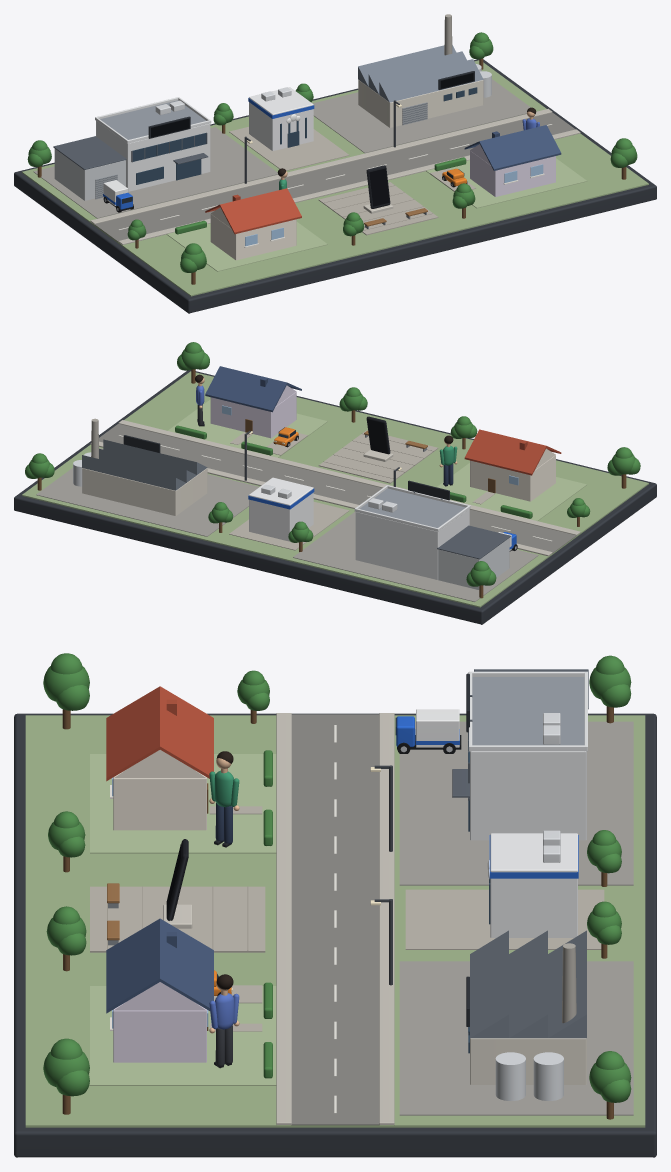
File: ebiz-town.glb
The picture shows the model from 3 angles, top to bottom: view 1: azimuth 30°, elevation 25°; view 2: azimuth 150°, elevation 25°; view 3: azimuth 270°, elevation 25°; orthographic projection. The views are drawn at different scales.
Parts seen in each view (by area): view 1: Static, Part_CompA, Part_CompB, Part_HouseA, Part_HouseB, Part_Platform, Part_Truck, Scr_Phone, Part_Phone; view 2: Static, Part_CompA, Part_CompB, Part_HouseB, Part_HouseA, Part_Platform, Part_Phone; view 3: Static, Part_CompA, Part_CompB, Part_HouseA, Part_HouseB, Part_Platform, Part_Truck, Part_Phone.
Boxes of the visible parts, bbox=[...] form: Static: bbox=[14, 32, 656, 313]; Part_CompA: bbox=[53, 97, 211, 200]; Part_CompB: bbox=[358, 14, 491, 127]; Part_HouseA: bbox=[205, 188, 301, 260]; Part_HouseB: bbox=[464, 125, 561, 196]; Part_Platform: bbox=[248, 87, 314, 150]; Part_Truck: bbox=[103, 180, 133, 212]; Scr_Phone: bbox=[369, 168, 389, 206]; Part_Phone: bbox=[363, 165, 393, 213]; Static: bbox=[14, 342, 656, 624]; Part_CompA: bbox=[354, 480, 510, 589]; Part_CompB: bbox=[73, 418, 207, 515]; Part_HouseB: bbox=[205, 366, 301, 438]; Part_HouseA: bbox=[464, 429, 561, 501]; Part_Platform: bbox=[248, 477, 314, 541]; Part_Phone: bbox=[363, 416, 393, 461]; Static: bbox=[14, 653, 656, 1157]; Part_CompA: bbox=[452, 669, 588, 840]; Part_CompB: bbox=[466, 930, 586, 1100]; Part_HouseA: bbox=[106, 686, 213, 830]; Part_HouseB: bbox=[106, 918, 213, 1062]; Part_Platform: bbox=[487, 830, 578, 937]; Part_Truck: bbox=[395, 709, 461, 753]; Part_Phone: bbox=[163, 839, 192, 928].
Size of the model in its own units: 1.7 by 0.3032 by 1.1.
